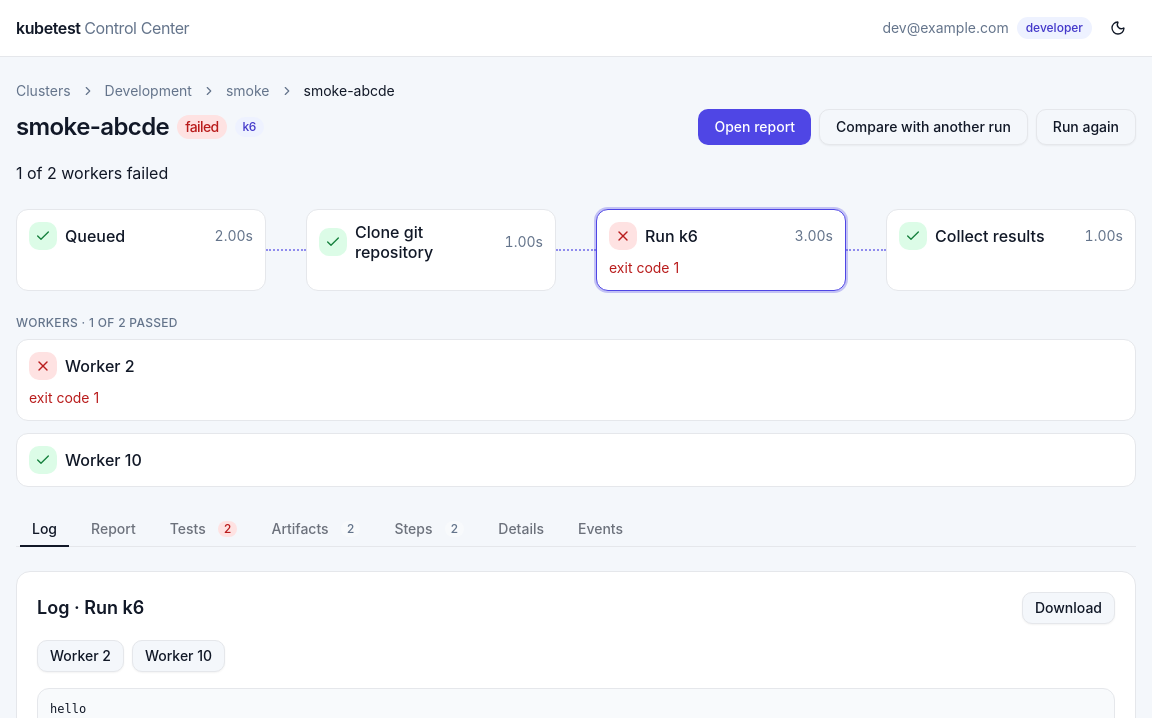
run page › shows a finished run: the log first, the rest in tabs with counts
This screenshot has width=1152, height=718.
Expected: the heading "smoke-abcde failed k6" is shown, [16, 111, 264, 143]
Expected: the text "1 of 2 workers failed" is shown, [16, 163, 168, 183]
Click the tab "Report": (113, 528) [78, 514, 149, 542]
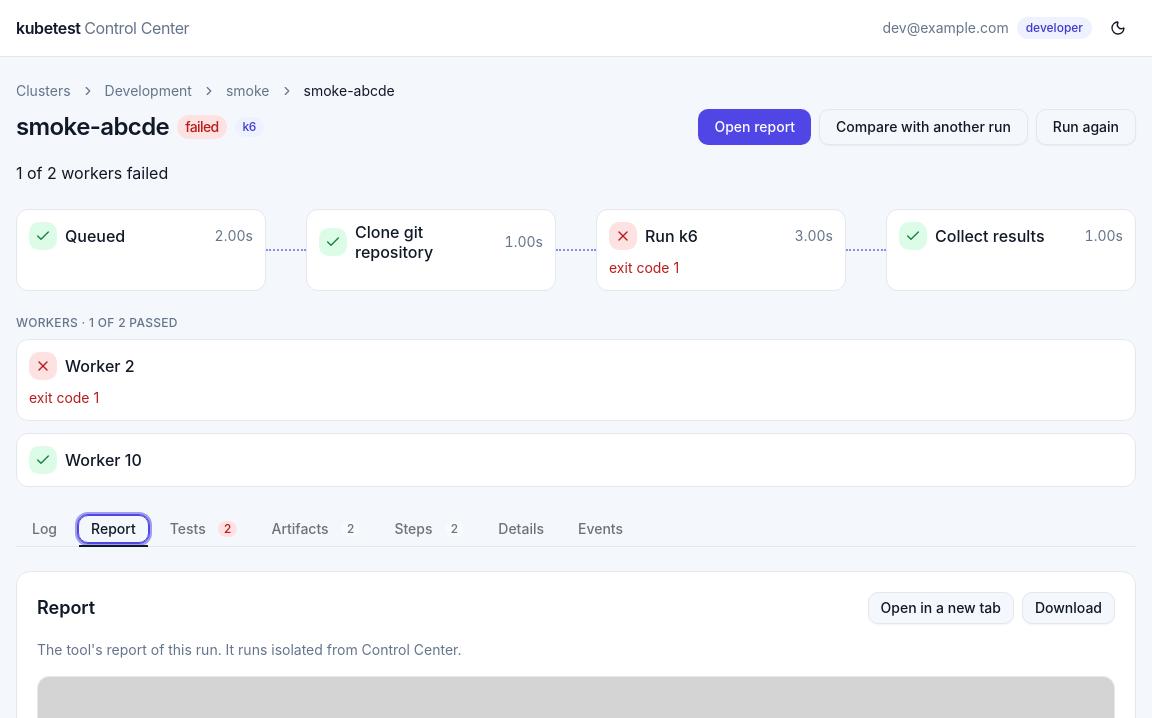
Click the tab "Tests 2": (204, 528) [157, 514, 250, 542]
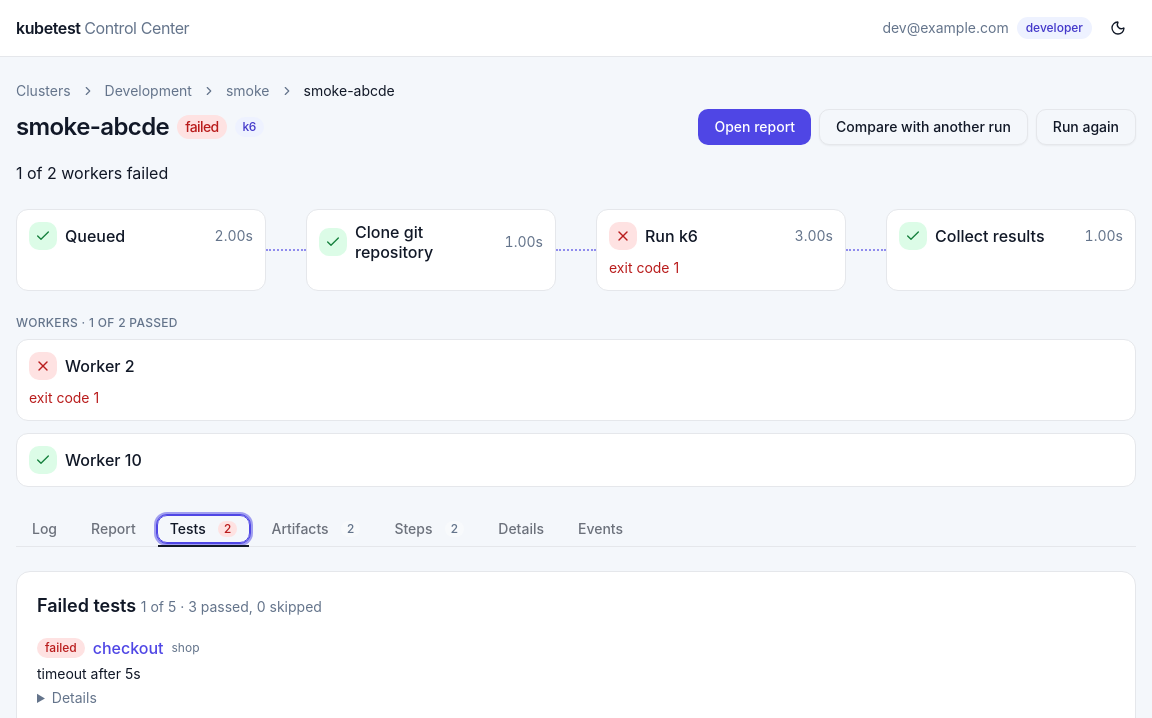
Expected: the text "1 of 5 · 3 passed, 0 skipped" is shown, [141, 598, 322, 615]
Click the tab "Artifacts 2": (316, 528) [258, 514, 373, 542]
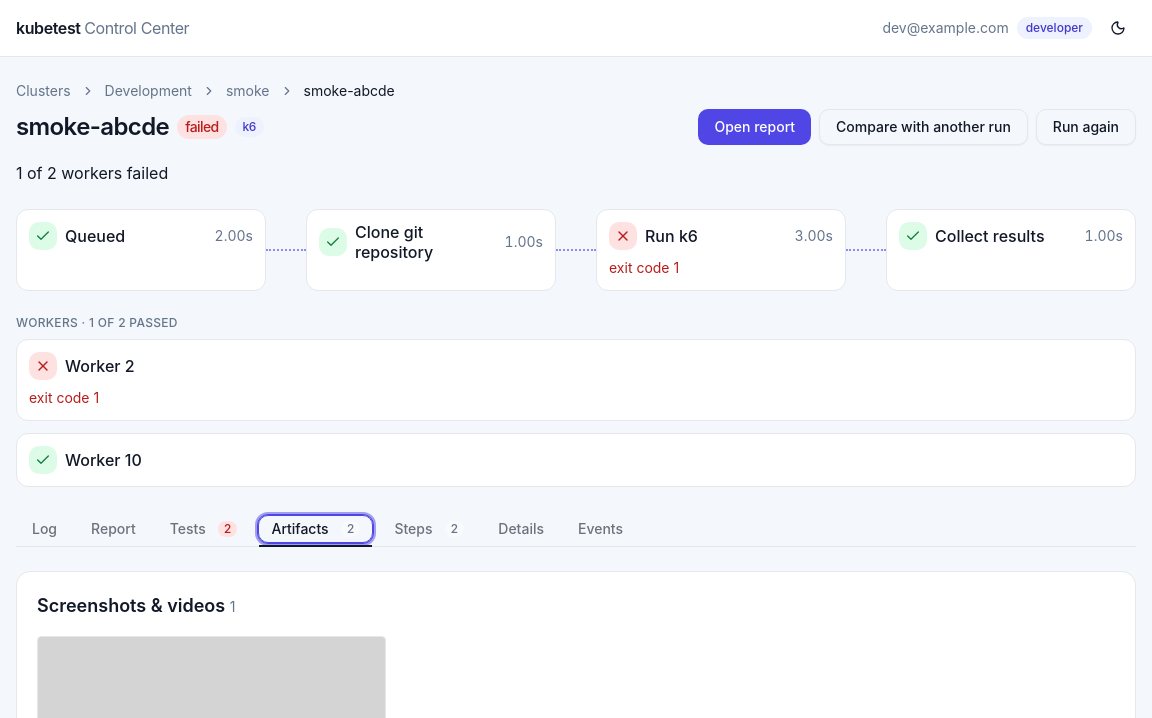
Click the tab "Steps 2": (429, 528) [381, 514, 477, 542]
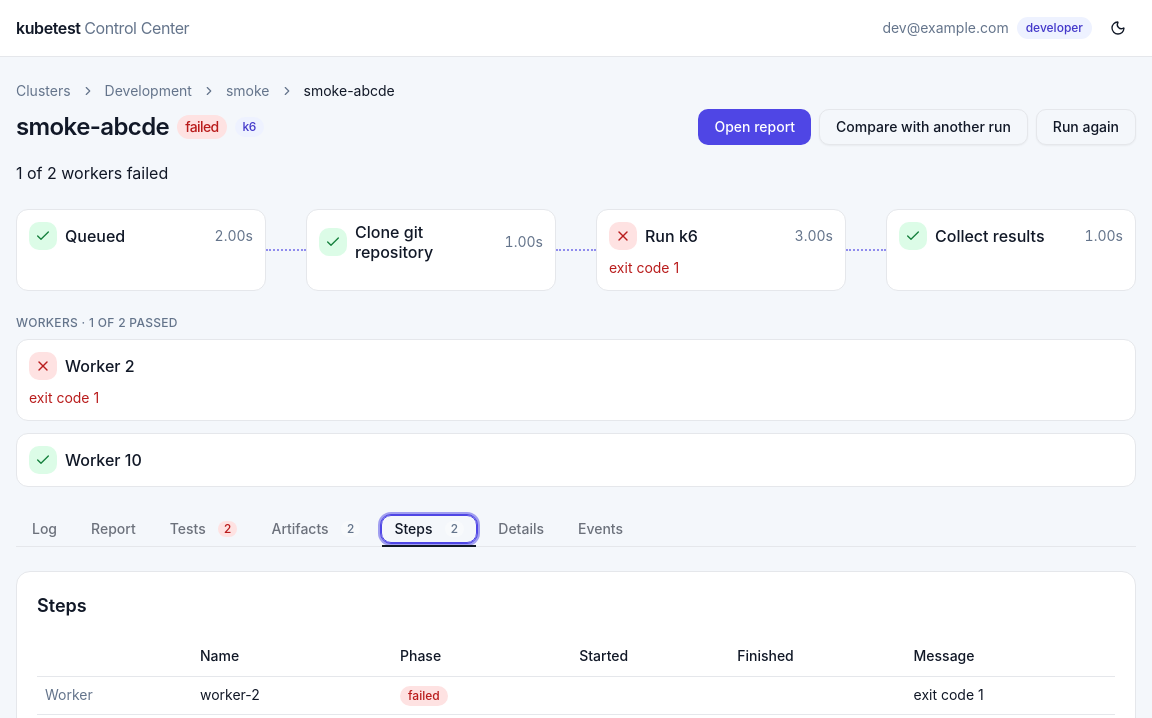
Expected: the row "Worker worker-2 failed exit code 1" is shown, [37, 676, 1115, 714]
Click the tab "Details": (521, 528) [485, 514, 557, 542]
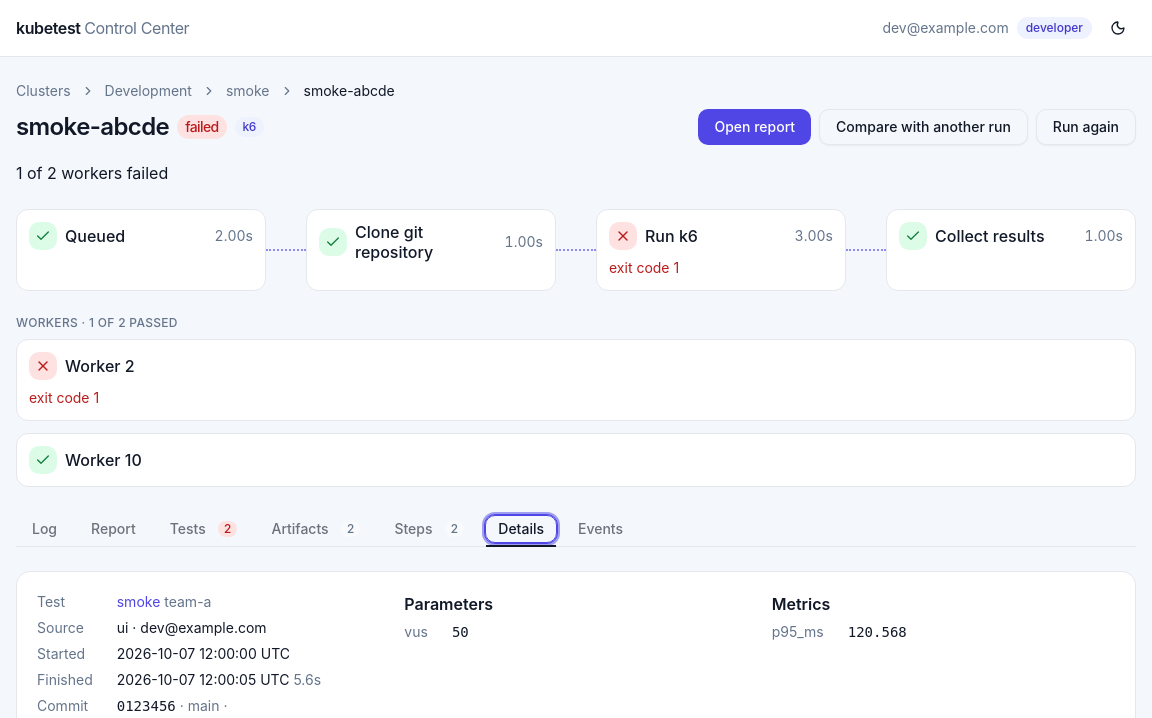
Expected: the text "ui · dev@example.com" is shown, [117, 619, 267, 636]
Expected: the text "120.568" is shown, [848, 624, 907, 640]
